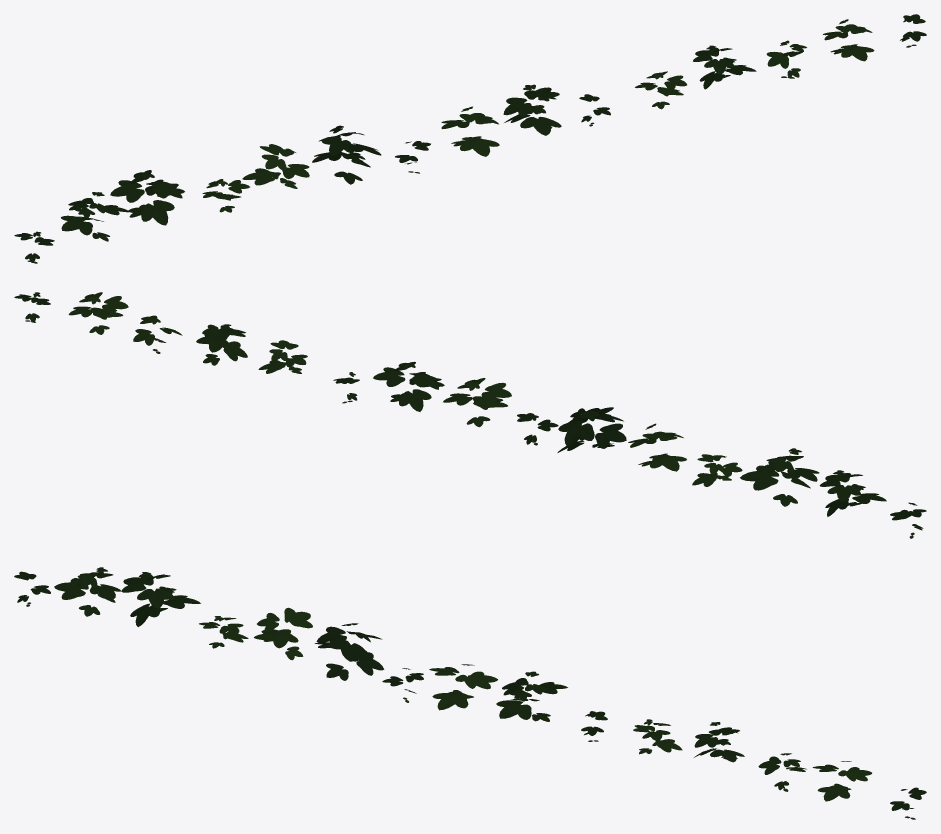
Rendered from ROW_20_SEG4_foliage.dae.
The picture shows the model from 3 angles, top to bottom: view 1: azimuth 30°, elevation 25°; view 2: azimuth 150°, elevation 25°; view 3: azimuth 330°, elevation 25°; orthographic projection.
Parts seen in each view (by area): view 1: ROW_20_SEG4_foliage; view 2: ROW_20_SEG4_foliage; view 3: ROW_20_SEG4_foliage.
Part boxes in pixels (<box>): ROW_20_SEG4_foliage: <box>14,14,926,263</box>; ROW_20_SEG4_foliage: <box>14,292,926,538</box>; ROW_20_SEG4_foliage: <box>14,567,926,819</box>.
Bounding box in the file's own units: 4.42 × 0.3821 × 0.2764.
